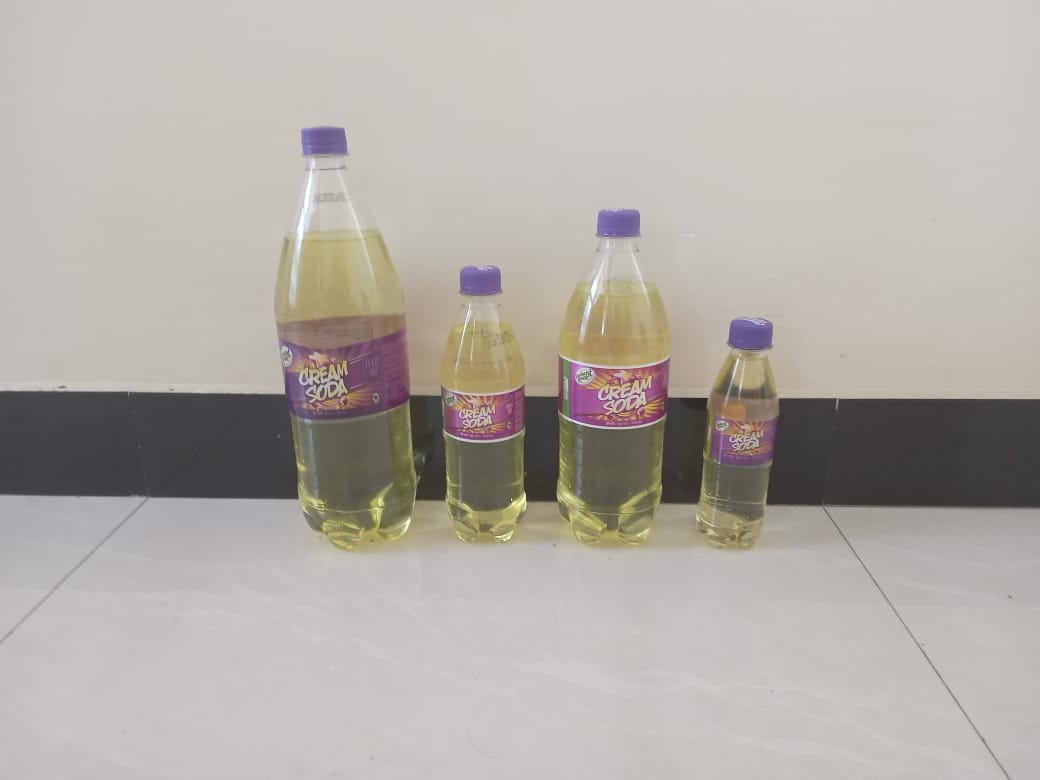L: (274, 123, 417, 547)
M: (554, 207, 673, 552)
S: (436, 267, 532, 550)
Xs: (696, 321, 778, 548)
